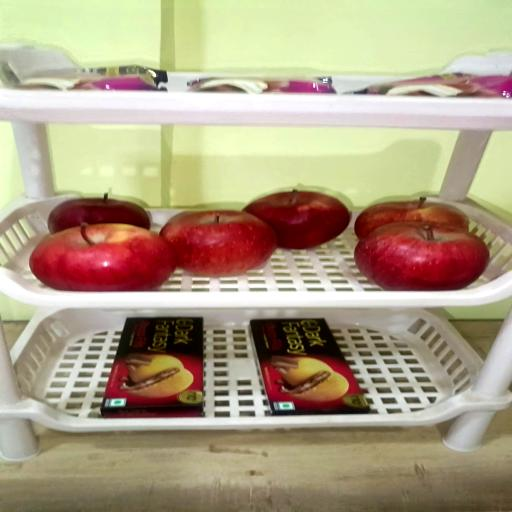Apple: (28, 224, 177, 294), (354, 224, 488, 294), (162, 211, 279, 278), (244, 191, 350, 252), (355, 198, 468, 242), (47, 196, 152, 235)
Choco Fills: (252, 318, 372, 415), (100, 316, 202, 418)
Choco Pie: (351, 71, 510, 98), (16, 65, 165, 91), (189, 76, 336, 95)
